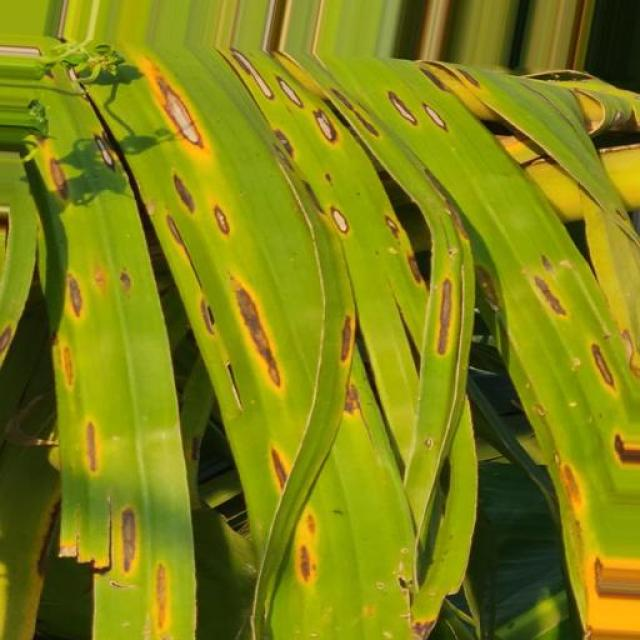Early_rust: (42, 45, 640, 617)
